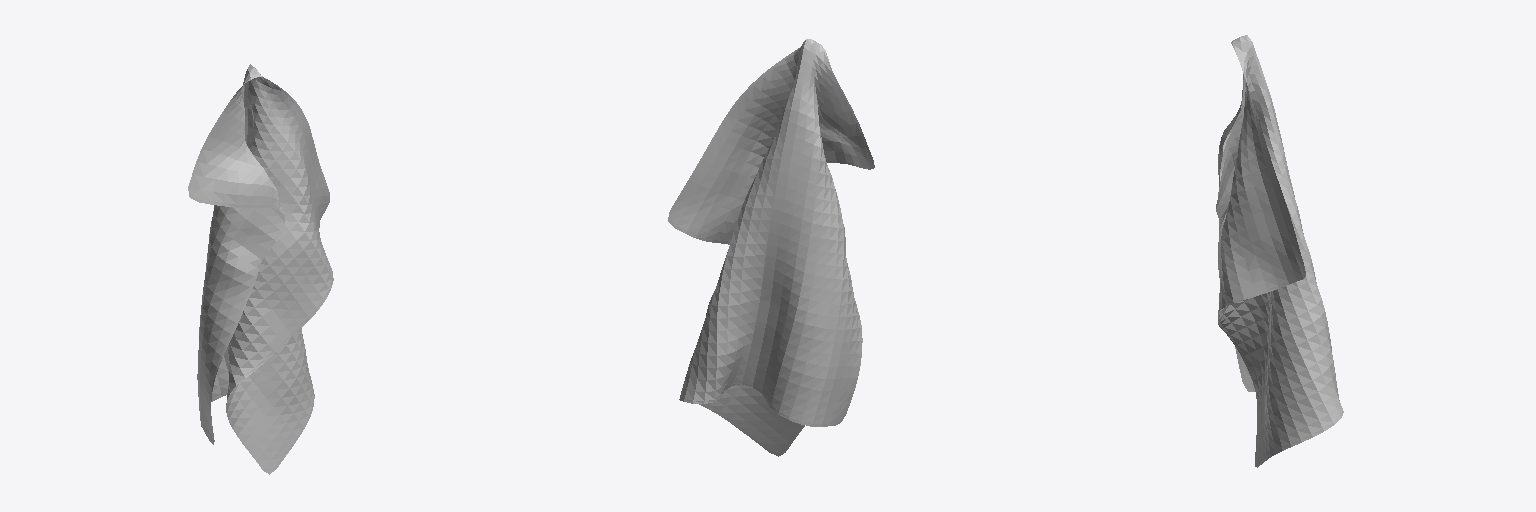
File: material z prawej 2.obj
The picture shows the model from 3 angles: view 1: azimuth 30°, elevation 25°; view 2: azimuth 150°, elevation 25°; view 3: azimuth 270°, elevation 25°; orthographic projection.
Visible parts, largest first — view 1: Plane.019_Plane.021; view 2: Plane.019_Plane.021; view 3: Plane.019_Plane.021.
Boxes of the visible parts, box(x1,y1,x2,y2) form: Plane.019_Plane.021: box(188, 64, 333, 474); Plane.019_Plane.021: box(668, 39, 874, 456); Plane.019_Plane.021: box(1216, 35, 1343, 467).
Bounding box in the file's own units: 0.2789 × 0.6429 × 0.1776.